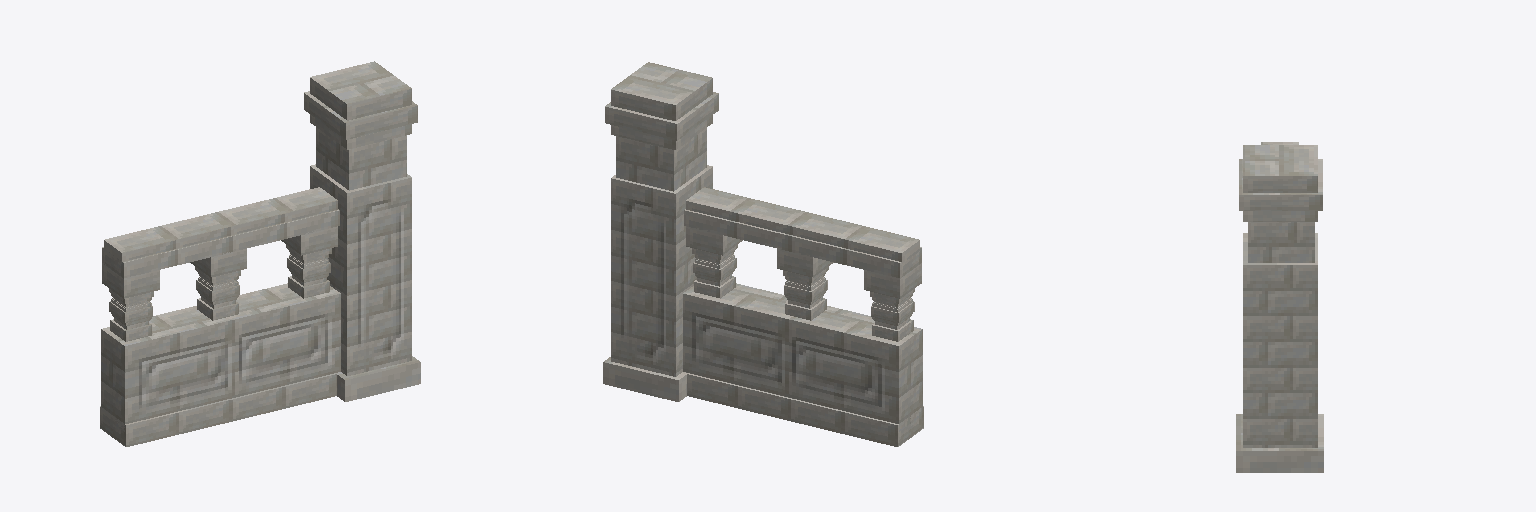
The picture shows the model from 3 angles: view 1: azimuth 30°, elevation 25°; view 2: azimuth 150°, elevation 25°; view 3: azimuth 270°, elevation 25°; orthographic projection.
Parts seen in each view (by area): view 1: cube; view 2: cube; view 3: cube.
Boxes of the visible parts, x1,y1,x2,y2 form: cube: [100, 61, 420, 446]; cube: [603, 62, 923, 446]; cube: [1236, 142, 1323, 472].
Size of the model in its own units: 4.03 by 3.96 by 1.06.
Materials: 3 (3 with a texture image).